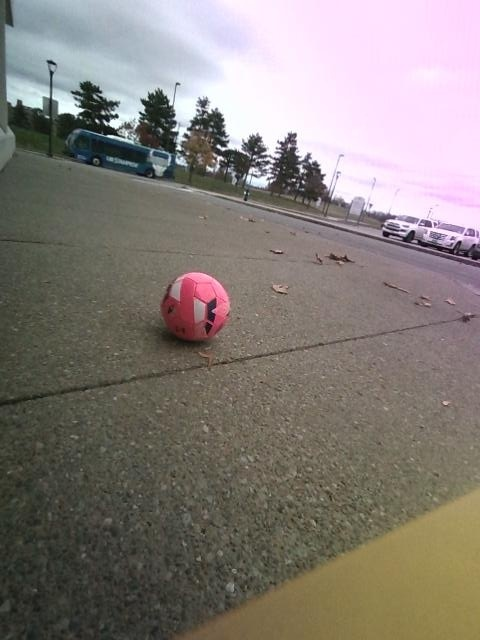ball: (161, 272, 229, 340)
